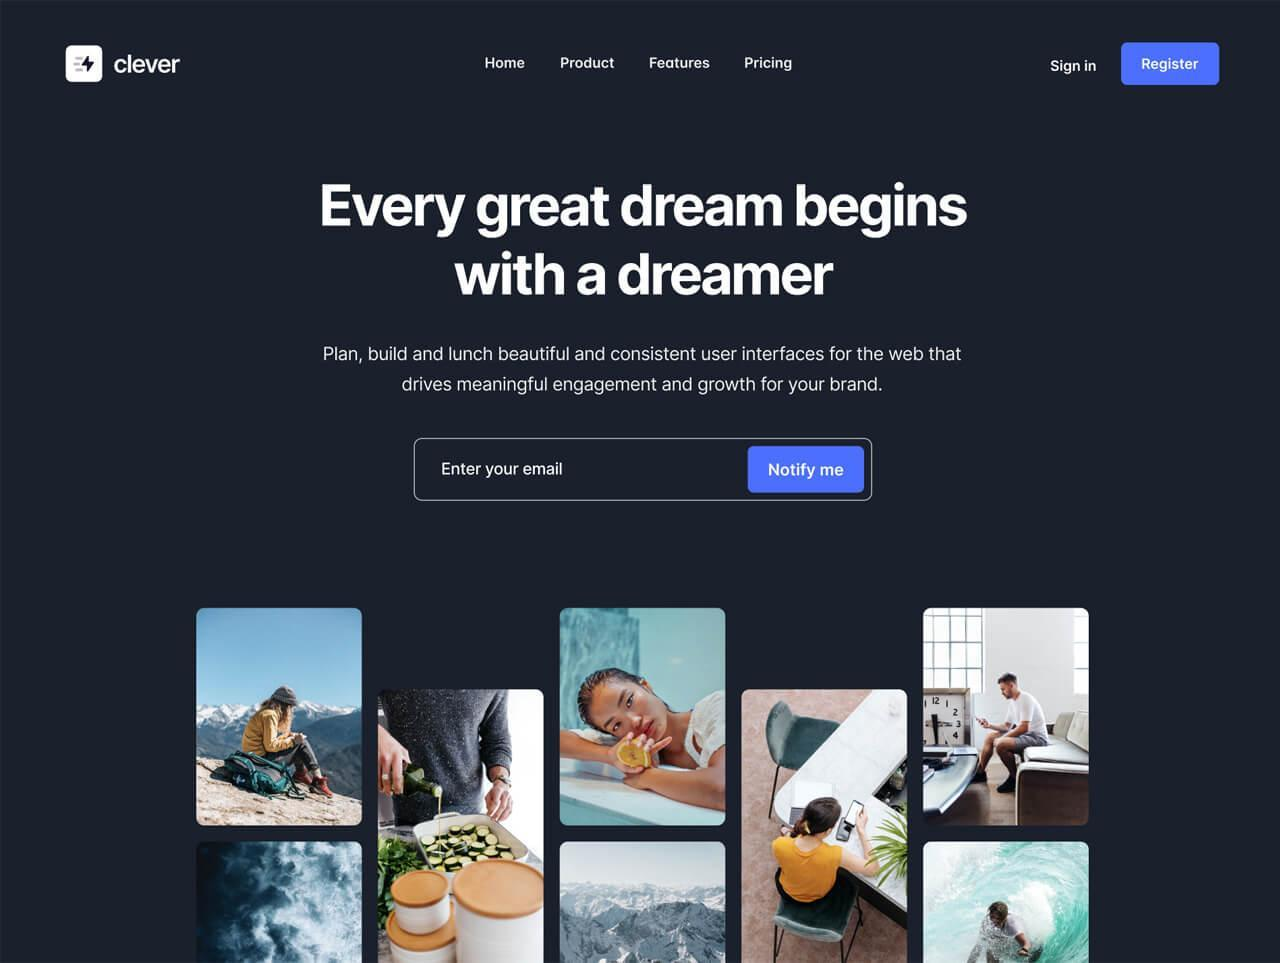button: (747, 447, 867, 496), (1125, 45, 1222, 87)
input: (415, 440, 873, 504)
label: (649, 53, 712, 74), (742, 53, 798, 73), (560, 55, 616, 74), (482, 55, 528, 74), (1048, 60, 1100, 76)
